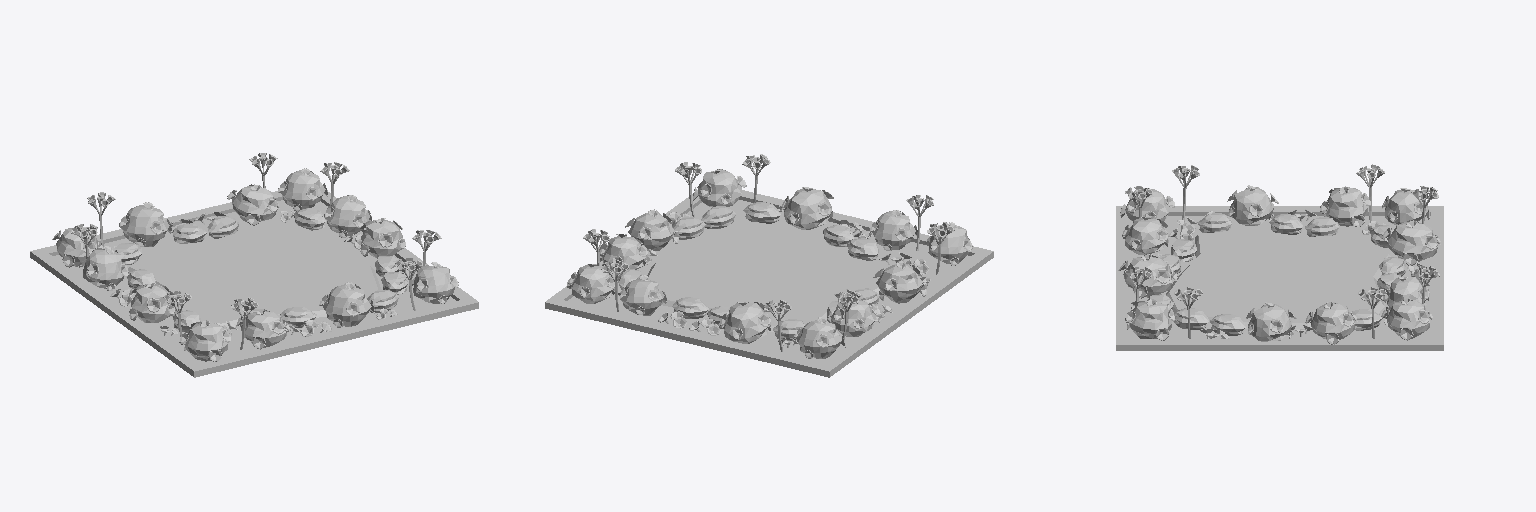
The model's file is garden.obj.
3 renders of one model, left to right at view 1: azimuth 30°, elevation 25°; view 2: azimuth 150°, elevation 25°; view 3: azimuth 270°, elevation 25°, orthographic.
Visible parts, largest first — view 1: Garden_mesh; view 2: Garden_mesh; view 3: Garden_mesh.
Boxes of the visible parts, <box> form: Garden_mesh: <box>30,153,478,377</box>; Garden_mesh: <box>545,154,993,377</box>; Garden_mesh: <box>1116,164,1443,350</box>.
Bounding box in the file's own units: 24.18 × 4.27 × 23.96.